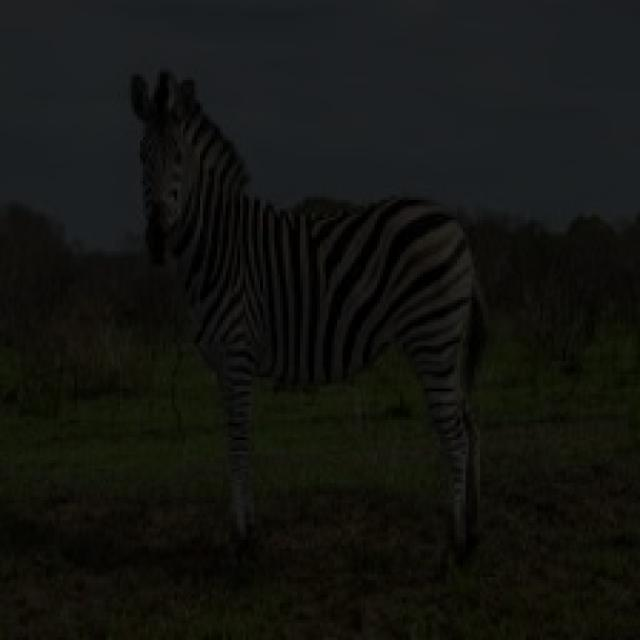bear: (112, 55, 549, 563)
